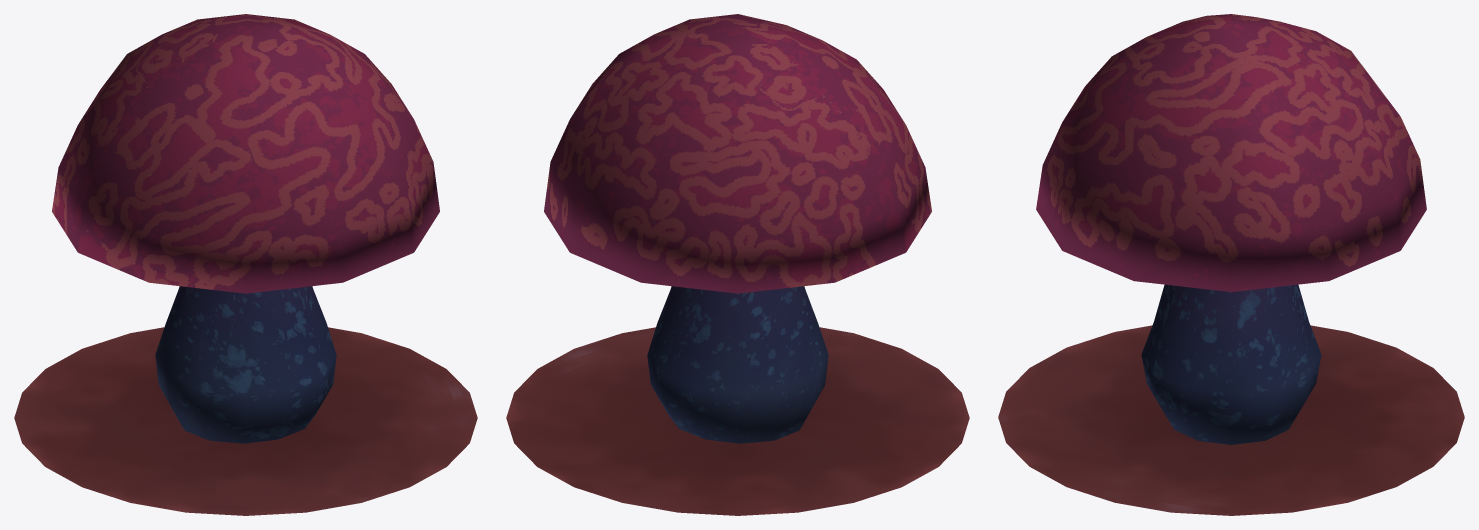
File: SM_MushroomIMPROVED.fbx
The picture shows the model from 3 angles, left to right: view 1: azimuth 30°, elevation 25°; view 2: azimuth 150°, elevation 25°; view 3: azimuth 270°, elevation 25°; orthographic projection.
Parts seen in each view (by area): view 1: pSphere1, pDisc2; view 2: pSphere1, pDisc2; view 3: pSphere1, pDisc2.
Part boxes in pixels (left/top/right/bottom): pSphere1: left=52, top=14, right=439, bottom=443; pDisc2: left=14, top=327, right=477, bottom=515; pSphere1: left=544, top=14, right=931, bottom=443; pDisc2: left=506, top=327, right=969, bottom=515; pSphere1: left=1036, top=14, right=1426, bottom=444; pDisc2: left=998, top=325, right=1464, bottom=515.
Bounding box in the file's own units: 2.39 × 2.21 × 2.39.
